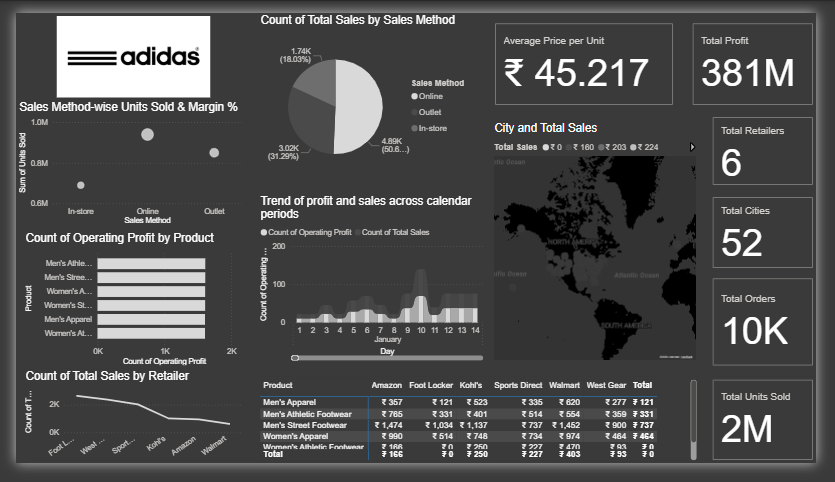

The page's visual inventory and layout, read from the dashboard file:
{"tool":"powerbi","page":{"name":"Page 1","canvas":[1280,720],"ordinal":0},"visuals":[{"type":"scatterChart","title":"Sales Method-wise Units Sold & Margin %","fields":{"X":["Adidas US Sales Datasets.Sales Method"],"Size":["Sum(Adidas US Sales Datasets.Operating Margin)"],"Y":["Sum(Adidas US Sales Datasets.Units Sold)"]},"box":[0,139.9,365.6,203.7],"z":0},{"type":"barChart","fields":{"Category":["Adidas US Sales Datasets.Product"],"Y":["CountNonNull(Adidas US Sales Datasets.Operating Profit)"]},"box":[9.8,350.9,355.8,218.4],"z":1000},{"type":"lineChart","fields":{"Category":["Adidas US Sales Datasets.Retailer"],"Y":["CountNonNull(Adidas US Sales Datasets.Total Sales)"]},"box":[10,569.7,355.8,150.5],"z":2000},{"type":"pieChart","fields":{"Category":["Adidas US Sales Datasets.Sales Method"],"Y":["CountNonNull(Adidas US Sales Datasets.Total Sales)"]},"box":[385.6,0,354.5,279.9],"z":3000},{"type":"ribbonChart","title":"Trend of profit and sales across calendar periods","fields":{"Category":["Adidas US Sales Datasets.Invoice Date.Variation.Date Hierarchy.Month","Adidas US Sales Datasets.Invoice Date.Variation.Date Hierarchy.Day"],"Y":["CountNonNull(Adidas US Sales Datasets.Operating Profit)","CountNonNull(Adidas US Sales Datasets.Total Sales)"]},"box":[385.3,289.6,366.9,271.2],"z":4000},{"type":"pivotTable","fields":{"Rows":["Adidas US Sales Datasets.Product"],"Columns":["Adidas US Sales Datasets.Retailer"],"Values":["Min(Adidas US Sales Datasets.Operating Profit)"]},"box":[385.3,581.6,708,138.7],"z":5000},{"type":"azureMap","fields":{"Series":["Adidas US Sales Datasets.Total Sales"],"Category":["Adidas US Sales Datasets.City"]},"box":[760.7,174.2,332.5,386.5],"z":6000},{"type":"cardVisual","fields":{"Data":["Adidas US Sales Datasets.Total Profit"]},"box":[1077.3,12.5,202.9,140.3],"z":7000},{"type":"cardVisual","fields":{"Data":["Adidas US Sales Datasets.Total Retailers"]},"box":[1109.6,161.7,170.4,118.2],"z":8000},{"type":"cardVisual","fields":{"Data":["Adidas US Sales Datasets.Total Cities"]},"box":[1109.6,289.8,170.4,123.2],"z":9000},{"type":"cardVisual","fields":{"Data":["Adidas US Sales Datasets.Total Orders"]},"box":[1109.6,420.5,170.4,149.3],"z":10000},{"type":"cardVisual","fields":{"Data":["Adidas US Sales Datasets.Average Price per Unit"]},"box":[761.6,12.5,294.4,140.3],"z":11000},{"type":"cardVisual","fields":{"Data":["Adidas US Sales Datasets.Total Units Sold"]},"box":[1109.6,582.2,170.4,138.1],"z":12000},{"type":"image","box":[38,0,300.6,139.9],"z":13000}]}

Visuals, with their boxes in screenshot pixels (x1, y1, x2, y2), scaled from the page's 1280x720 canvas onto the 835x482 screenshot:
"Sales Method-wise Units Sold & Margin %" scatterChart: {"x1": 0, "y1": 94, "x2": 238, "y2": 230}
barChart - Adidas US Sales Datasets.Product x CountNonNull(Adidas US Sales Datasets.Operating Profit): {"x1": 6, "y1": 235, "x2": 238, "y2": 381}
lineChart - Adidas US Sales Datasets.Retailer x CountNonNull(Adidas US Sales Datasets.Total Sales): {"x1": 7, "y1": 381, "x2": 239, "y2": 481}
pieChart - Adidas US Sales Datasets.Sales Method x CountNonNull(Adidas US Sales Datasets.Total Sales): {"x1": 252, "y1": 0, "x2": 483, "y2": 187}
"Trend of profit and sales across calendar periods" ribbonChart: {"x1": 251, "y1": 194, "x2": 491, "y2": 375}
pivotTable - Adidas US Sales Datasets.Product x Adidas US Sales Datasets.Retailer: {"x1": 251, "y1": 389, "x2": 713, "y2": 481}
azureMap - Adidas US Sales Datasets.Total Sales x Adidas US Sales Datasets.City: {"x1": 496, "y1": 117, "x2": 713, "y2": 375}
cardVisual - Adidas US Sales Datasets.Total Profit: {"x1": 703, "y1": 8, "x2": 834, "y2": 102}
cardVisual - Adidas US Sales Datasets.Total Retailers: {"x1": 724, "y1": 108, "x2": 834, "y2": 187}
cardVisual - Adidas US Sales Datasets.Total Cities: {"x1": 724, "y1": 194, "x2": 834, "y2": 276}
cardVisual - Adidas US Sales Datasets.Total Orders: {"x1": 724, "y1": 282, "x2": 834, "y2": 381}
cardVisual - Adidas US Sales Datasets.Average Price per Unit: {"x1": 497, "y1": 8, "x2": 689, "y2": 102}
cardVisual - Adidas US Sales Datasets.Total Units Sold: {"x1": 724, "y1": 390, "x2": 834, "y2": 481}
image: {"x1": 25, "y1": 0, "x2": 221, "y2": 94}
